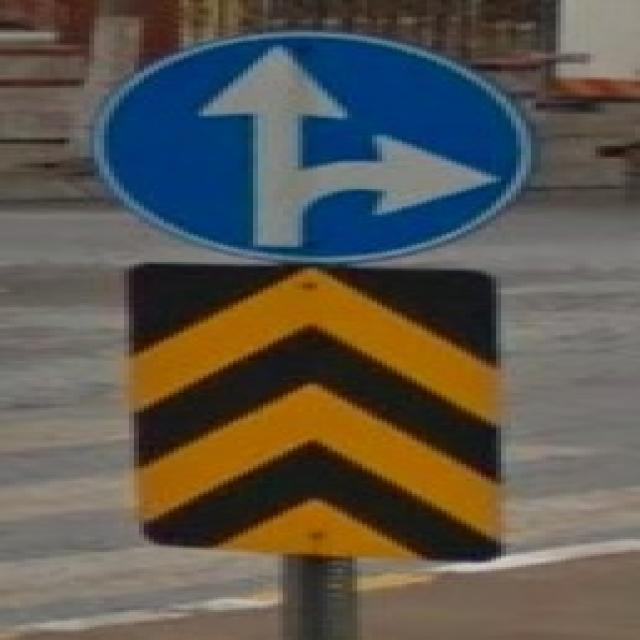Straight or Right: (95, 36, 537, 257)
